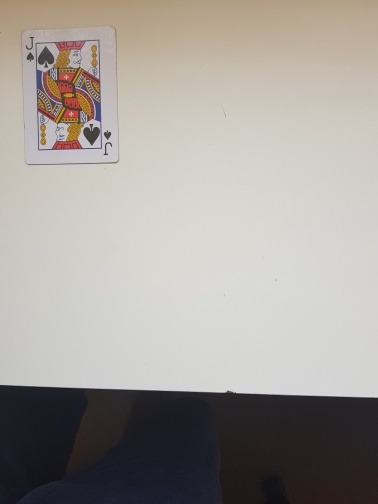jack: (20, 26, 120, 166)
